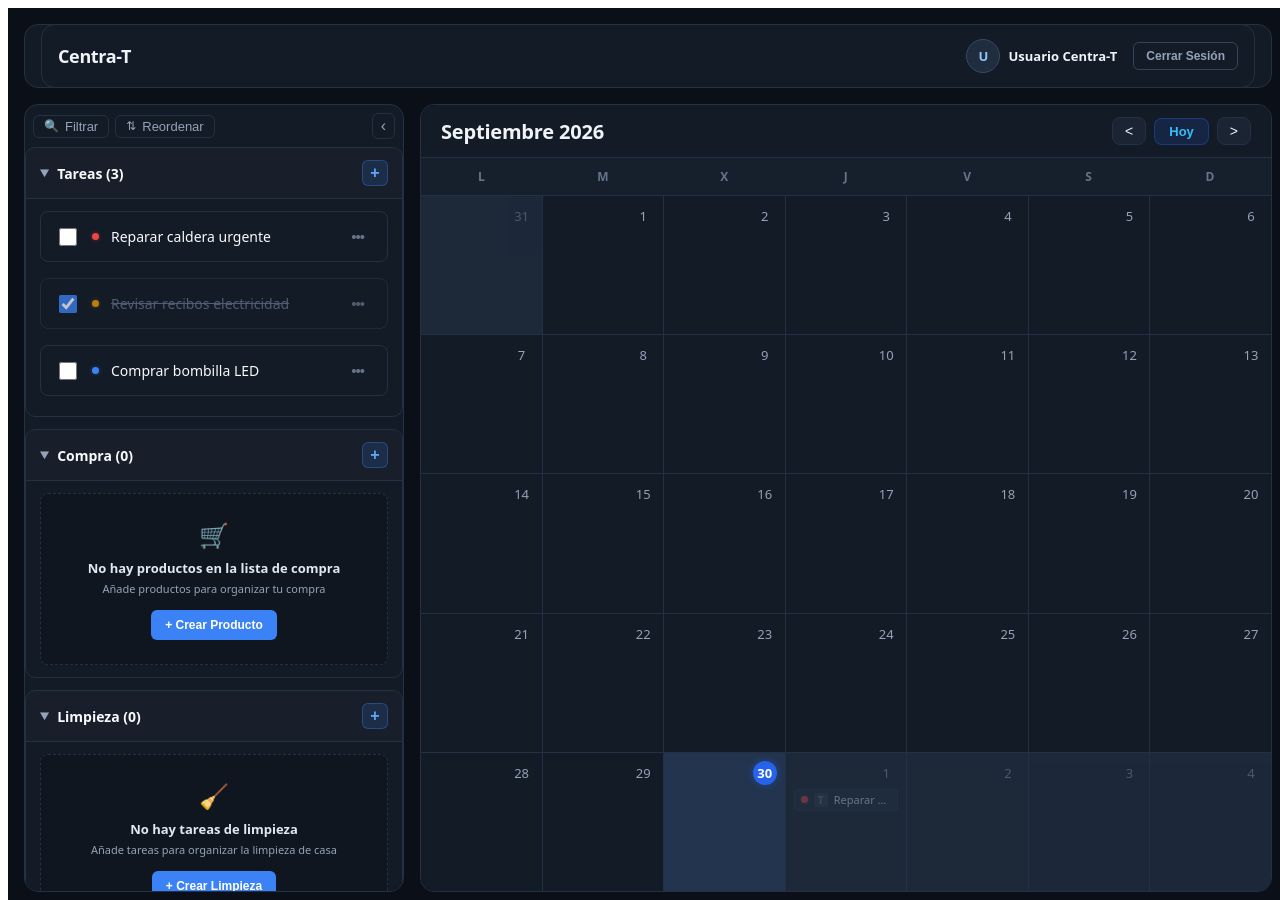
Test: App Root Integration - Filtrado Reactivo y Reordenación en Caliente (RV-A06) › debe filtrar tareas por prioridad desde la interfaz real y restaurarlas con [Limpiar]
Expected: the 1st text "Reparar caldera urgente" is shown, [111, 227, 271, 246]
Expected: the text "Comprar bombilla LED" is shown, [111, 361, 259, 380]
Note: Abrir FilterModal haciendo clic en [Filtrar]
Click the button "🔍 Filtrar" at {"x": 71, "y": 126}, box [33, 114, 109, 138]
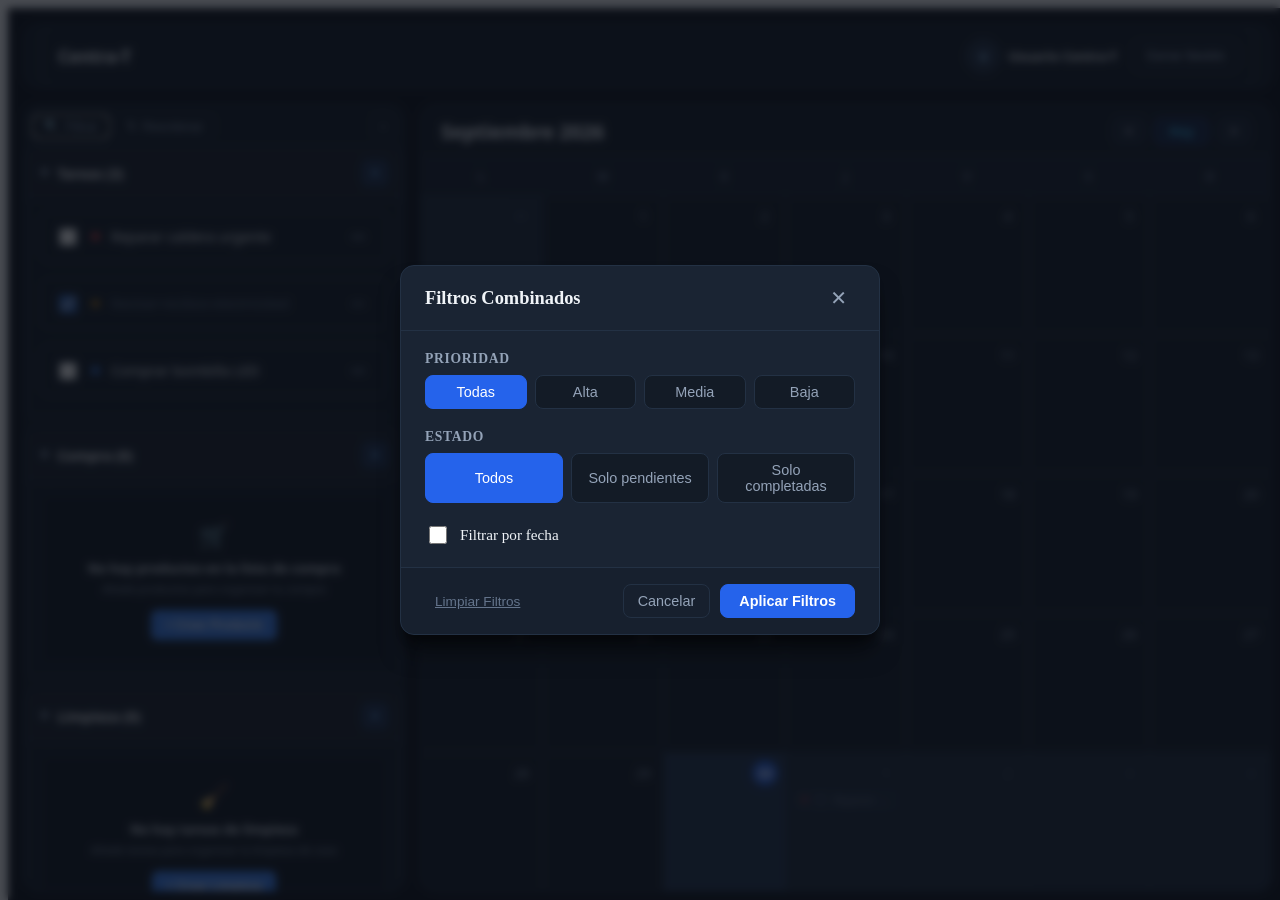
Now the dialog is shown, box [400, 265, 880, 635]
Now the heading "Filtros Combinados" is shown, box [425, 288, 580, 308]
Note: Seleccionar Prioridad Alta
Click the button "Alta" at {"x": 585, "y": 392}, box [534, 375, 636, 409]
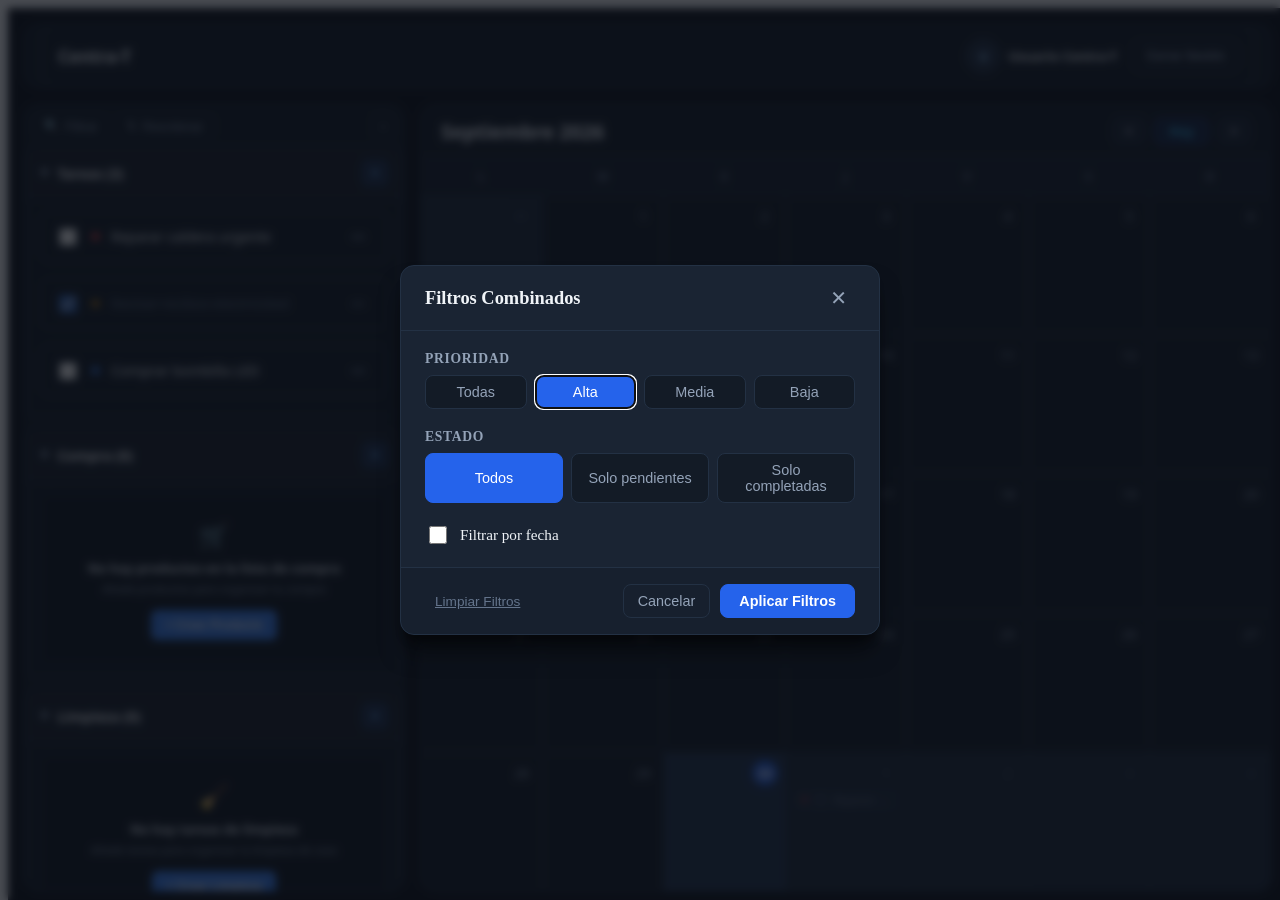
Now the button "Alta" is pressed, box [534, 375, 636, 409]
Note: Aplicar Filtros
Click the button "Aplicar Filtros" at {"x": 788, "y": 601}, box [720, 584, 855, 618]
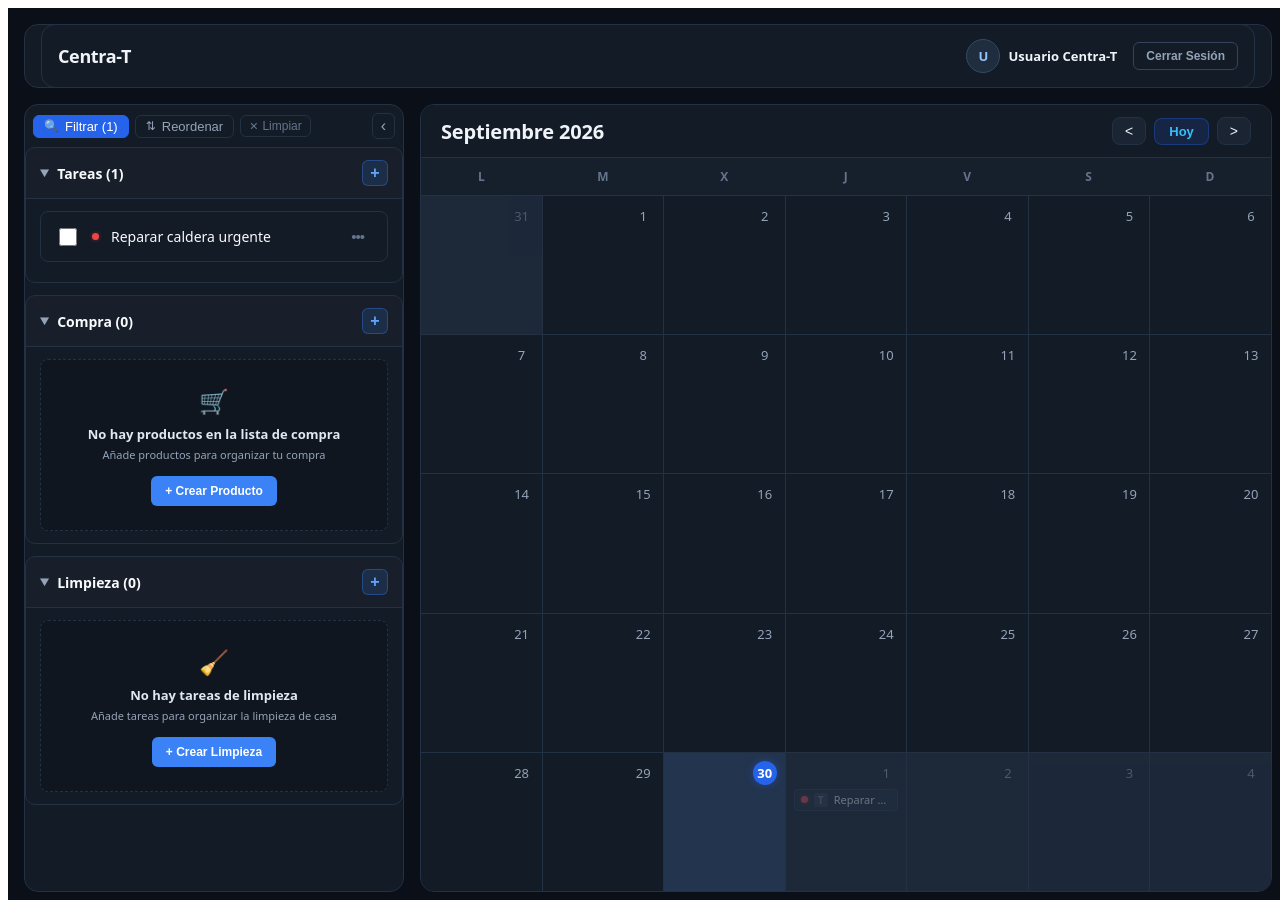
Now the dialog is gone
Now the text "Revisar recibos electricidad" is gone
Now the button "▶ Tareas (1) +" is shown, box [26, 148, 402, 198]
Note: Pulsar [Limpiar]: Vuelven a aparecer todas las tareas
Click the button with aria-label "limpiar filtros" at {"x": 276, "y": 126}, box [240, 115, 311, 137]
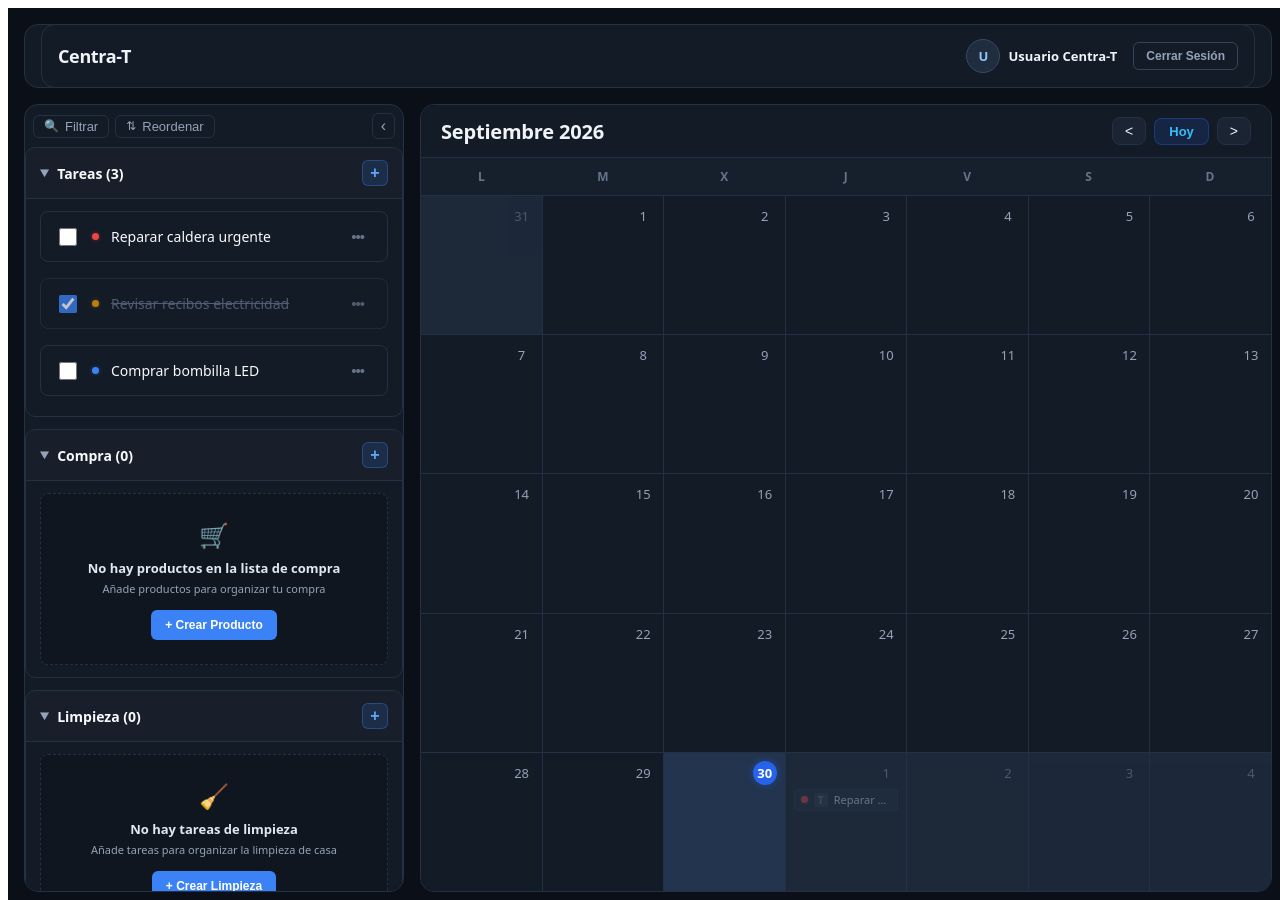
Now the text "Comprar bombilla LED" is shown, box [111, 361, 259, 380]
Now the text "Revisar recibos electricidad" is shown, box [111, 294, 289, 313]
Now the button "▶ Tareas (3) +" is shown, box [26, 148, 402, 198]
